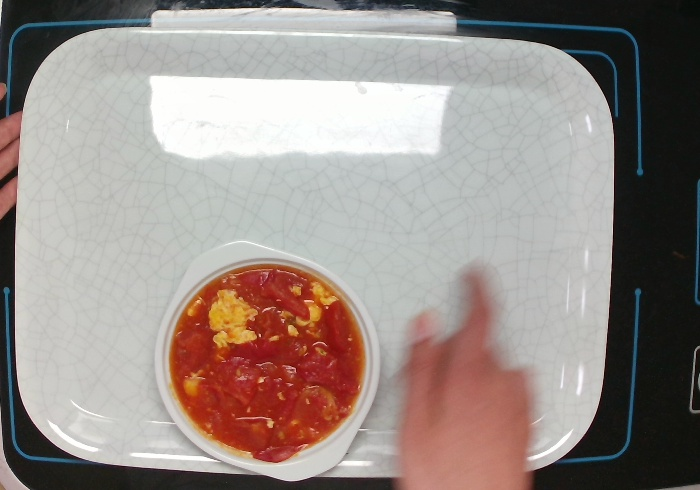JYsf-Shuang_Er_Pan: (151, 237, 385, 485)
